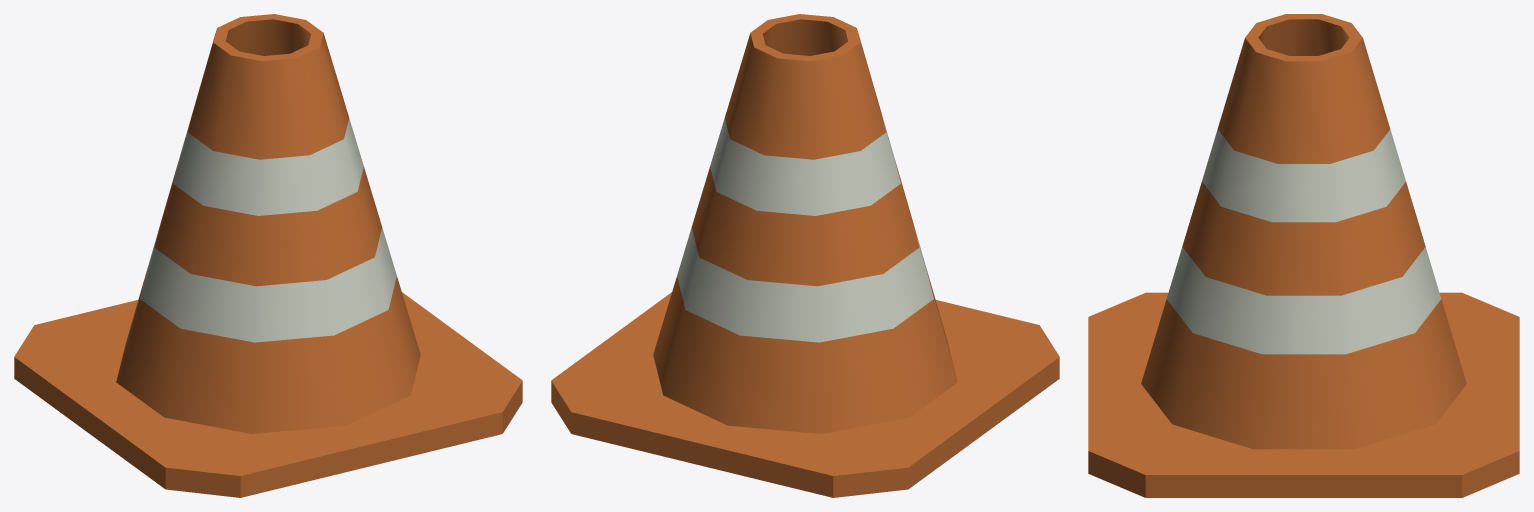
The model's file is TrafficCone.glb.
3 views of the same model, side by side, from view 1: azimuth 30°, elevation 25°; view 2: azimuth 150°, elevation 25°; view 3: azimuth 270°, elevation 25° (orthographic). The views are drawn at different scales.
Parts seen in each view (by area): view 1: TrafficCone; view 2: TrafficCone; view 3: TrafficCone.
Part boxes in pixels (x1,y1,x2,y2): TrafficCone: [14, 14, 522, 497]; TrafficCone: [551, 14, 1059, 497]; TrafficCone: [1088, 14, 1519, 497].
Bounding box in the file's own units: 0.6746 × 0.6367 × 0.6746.
